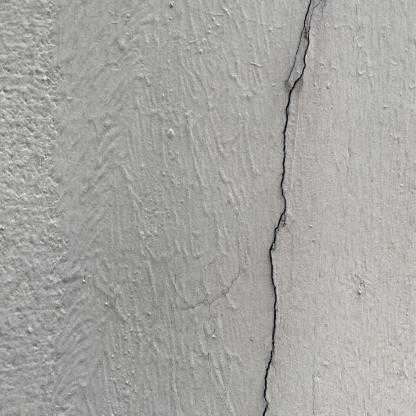crack: (263, 28, 310, 416), (288, 1, 311, 80)
